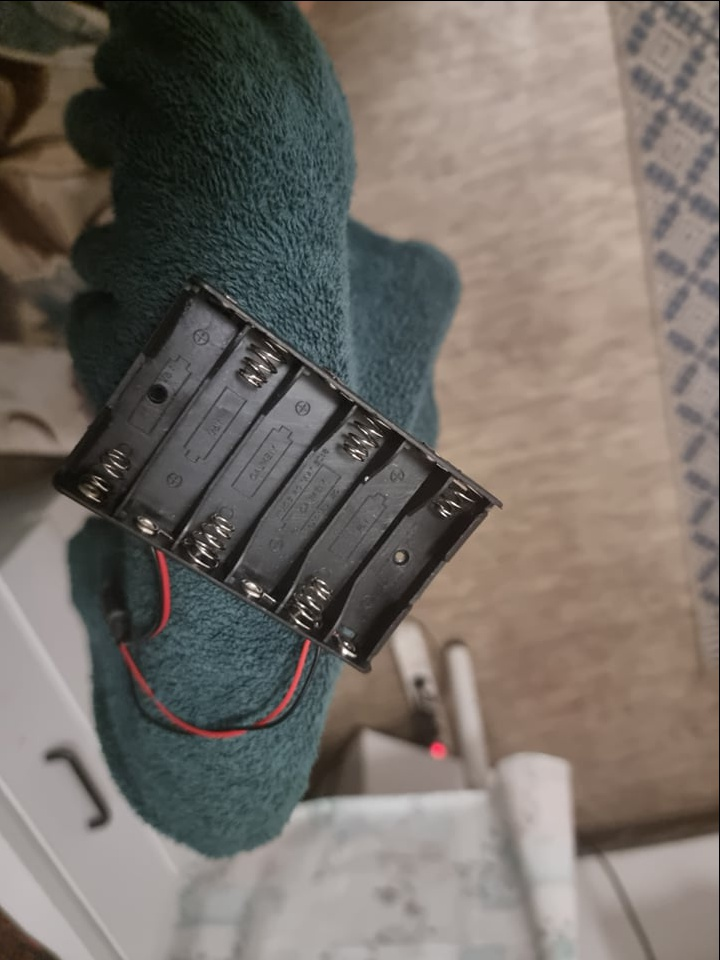BATTERY BOX: (55, 266, 506, 670)
